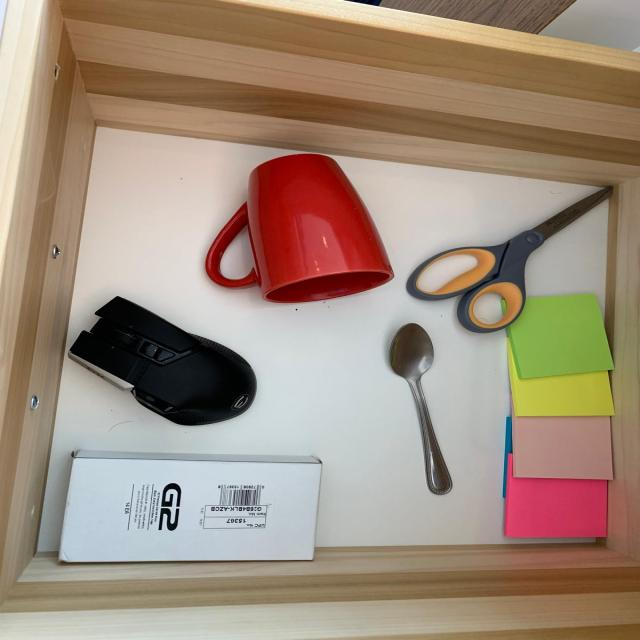Cup: (196, 149, 403, 309)
Mouse: (48, 287, 289, 430)
Spoon: (387, 318, 461, 508)
